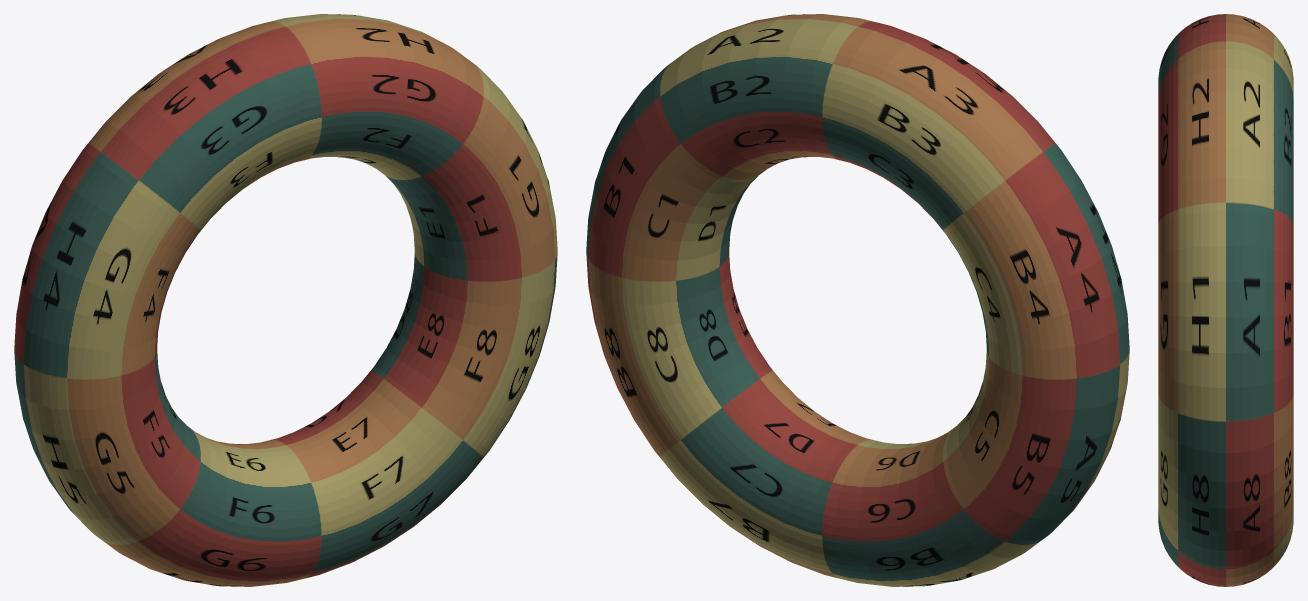
The model's file is texture_torus_R18_r18.glb.
3 renders of one model, left to right at view 1: azimuth 30°, elevation 25°; view 2: azimuth 150°, elevation 25°; view 3: azimuth 270°, elevation 25°, orthographic. The views are drawn at different scales.
Visible parts, largest first — view 1: world; view 2: world; view 3: world.
Boxes of the visible parts, bbox=[...] form: world: bbox=[14, 14, 557, 586]; world: bbox=[586, 14, 1129, 586]; world: bbox=[1158, 14, 1293, 586].
Size of the model in its own units: 28.8 by 28.74 by 6.79.
Materials: 1 (1 with a texture image).
